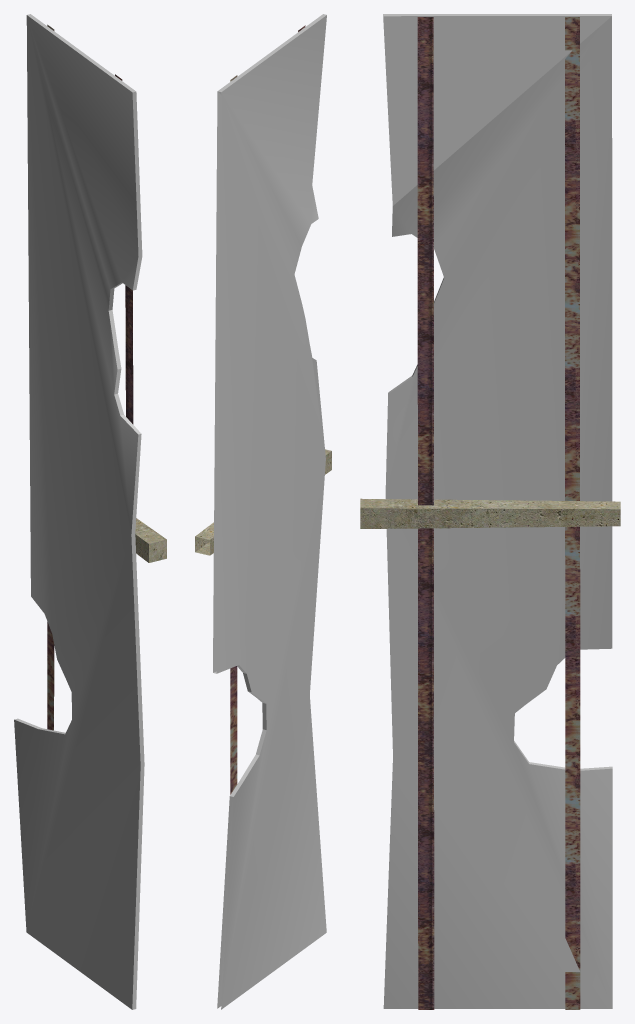
Rendered from zaun_blech_loch.fbx.
3 renders of one model, left to right at view 1: azimuth 30°, elevation 25°; view 2: azimuth 150°, elevation 25°; view 3: azimuth 270°, elevation 25°, orthographic. The views are drawn at different scales.
Parts seen in each view (by area): view 1: Object041; view 2: Object041; view 3: Object041.
Part boxes in pixels (x1,y1,x2,y2): Object041: [14, 14, 166, 1009]; Object041: [195, 14, 331, 1009]; Object041: [360, 14, 620, 1009].
Size of the model in its own units: 0.6339 by 15.28 by 3.63.
